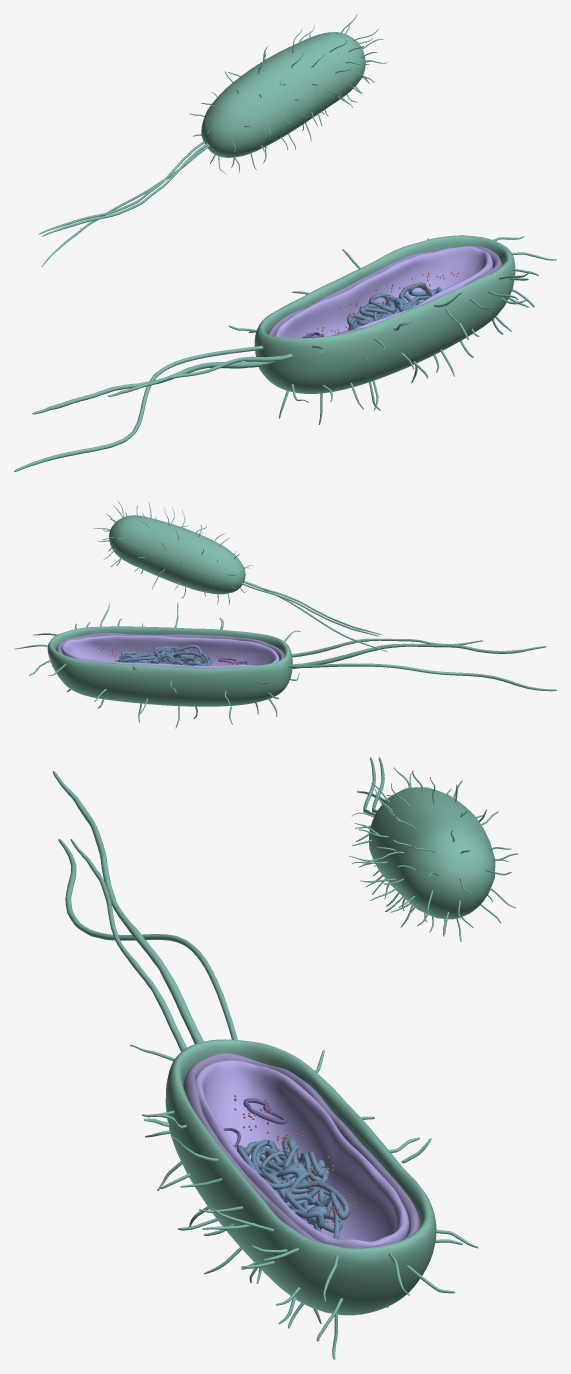
The model's file is te bao nhan so.glb.
3 renders of one model, top to bottom at view 1: azimuth 30°, elevation 25°; view 2: azimuth 150°, elevation 25°; view 3: azimuth 270°, elevation 25°, orthographic. The views are drawn at different scales.
Visible parts, largest first — view 1: polySurface504, polySurface466, polySurface506, polySurface470, polySurface262, polySurface505, polySurface507, polySurface272, polySurface551, polySurface54, polySurface527; view 2: polySurface504, polySurface466, polySurface506, polySurface505, polySurface507, polySurface470, polySurface272, polySurface262, polySurface551, polySurface54, polySurface52, polySurface559 (+1 smaller); view 3: polySurface504, polySurface506, polySurface466, polySurface470, polySurface272, polySurface262, polySurface507, polySurface54, polySurface505, polySurface551, polySurface60, polySurface52.
Boxes of the visible parts, x1,y1,x2,y2 form: polySurface504: (254, 235, 515, 393); polySurface466: (201, 32, 365, 157); polySurface506: (274, 246, 492, 337); polySurface470: (228, 236, 556, 424); polySurface262: (189, 14, 387, 174); polySurface505: (14, 345, 263, 471); polySurface507: (32, 361, 275, 414); polySurface272: (267, 245, 502, 336); polySurface551: (108, 354, 292, 396); polySurface54: (348, 293, 412, 329); polySurface527: (41, 143, 207, 236); polySurface504: (47, 626, 292, 706); polySurface466: (109, 515, 245, 594); polySurface506: (61, 635, 279, 668); polySurface505: (288, 663, 556, 691); polySurface507: (292, 643, 546, 668); polySurface470: (14, 603, 300, 728); polySurface272: (56, 632, 284, 667); polySurface262: (93, 500, 253, 605); polySurface551: (292, 638, 483, 657); polySurface54: (147, 644, 210, 665); polySurface52: (153, 646, 212, 665); polySurface559: (241, 582, 379, 636); polySurface504: (165, 1039, 436, 1315); polySurface506: (195, 1060, 409, 1248); polySurface466: (369, 787, 495, 919); polySurface470: (130, 1045, 478, 1359); polySurface272: (183, 1052, 419, 1248); polySurface262: (349, 767, 518, 941); polySurface507: (52, 771, 203, 1043); polySurface54: (236, 1137, 328, 1205); polySurface505: (58, 839, 237, 1039); polySurface551: (70, 839, 186, 1051); polySurface60: (274, 1180, 349, 1239); polySurface52: (237, 1140, 329, 1196).
Bounding box in the file's own units: 29.55 × 15.31 × 13.02.
13 materials, 2 textured.
